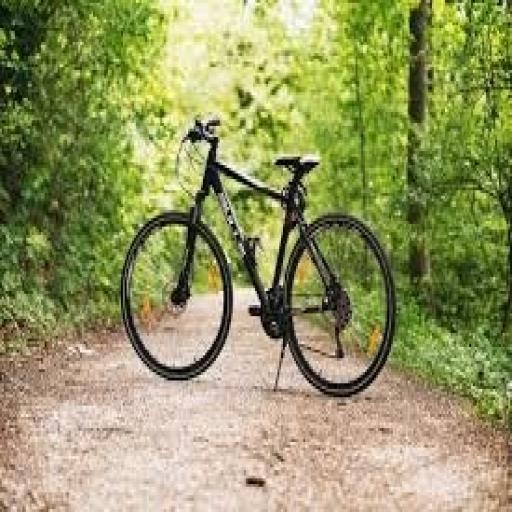cycling: (118, 109, 400, 403)
